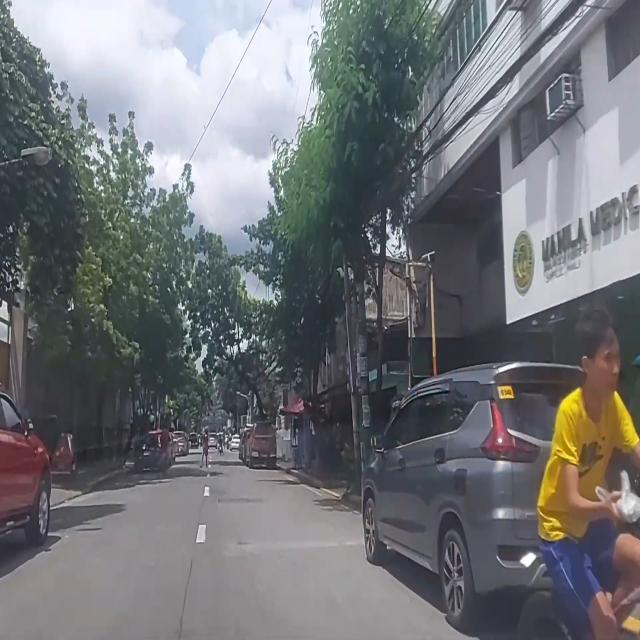car: (362, 360, 584, 619), (1, 378, 54, 554), (134, 428, 169, 474), (244, 422, 276, 469), (173, 430, 189, 458)
tricycle: (50, 431, 76, 481)
